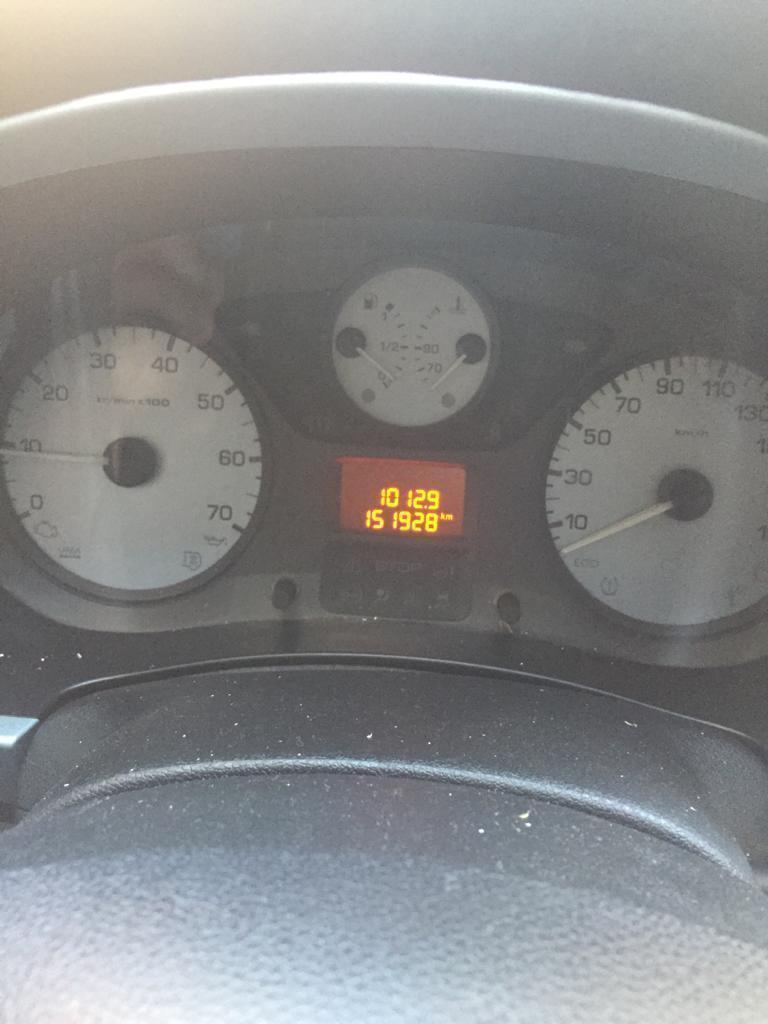,: (423, 504, 427, 508)
0: (385, 487, 398, 507)
1: (365, 509, 371, 528), (379, 487, 385, 505), (406, 489, 412, 507), (392, 511, 397, 529)
2: (411, 512, 424, 531), (412, 489, 425, 508)
5: (371, 509, 384, 528)
8: (424, 512, 437, 532)
9: (426, 489, 439, 509), (398, 510, 410, 531)
X: (445, 513, 453, 520), (440, 511, 445, 520)
odometer: (335, 457, 468, 537)
